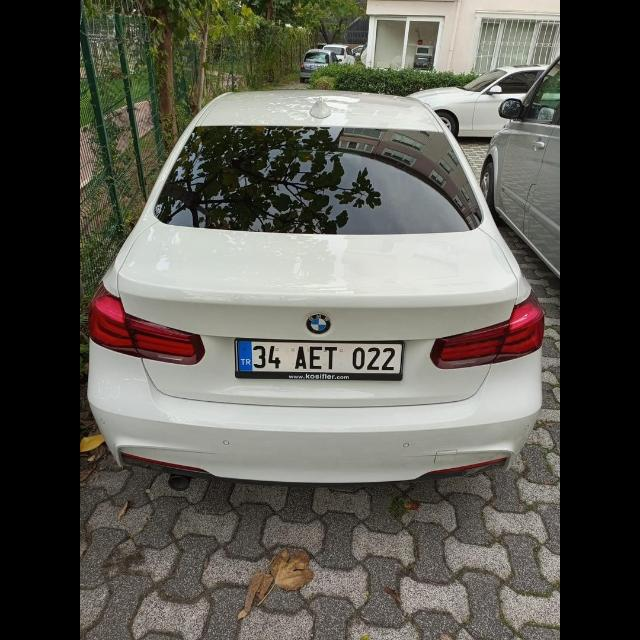Plaka: (238, 340, 404, 374)
